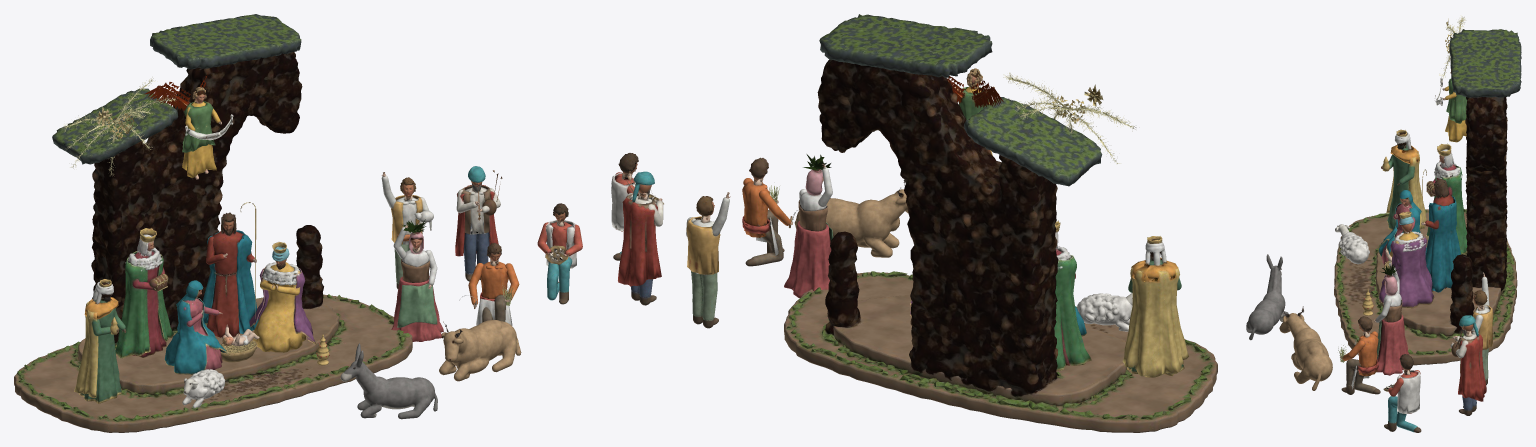
Rendered from pesebre.glb.
3 views of the same model, side by side, from view 1: azimuth 30°, elevation 25°; view 2: azimuth 150°, elevation 25°; view 3: azimuth 270°, elevation 25° (orthographic). The views are drawn at different scales.
Parts seen in each view (by area): view 1: LOW_Portal_conj, LOW_San_Jose.001, LOW_Rey_Melchor.001, LOW_Rey_Gaspar.001, LOW_Rey_Baltasar.001, LOW_Pastora.001, LOW_Buey.001, LOW_Virgen_Maria.001, LOW_Pastor_Gaita.001, LOW_Angel.001, LOW_Mula.001, LOW_Pastor_Huevos.001 (+5 smaller); view 2: LOW_Portal_conj, LOW_Rey_Baltasar.001, LOW_Pastora.001, LOW_Pastor_Gaita.001, LOW_Pastor_Cordero.001, LOW_Buey.001, LOW_Pastor_Hoz.001, LOW_Rey_Melchor.001, LOW_Ramo.001, LOW_Oveja.001, LOW_Angel.001, LOW_Pastor_Huevos.001; view 3: LOW_Portal_conj, LOW_San_Jose.001, LOW_Rey_Gaspar.001, LOW_Pastora.001, LOW_Pastor_Gaita.001, LOW_Buey.001, LOW_Rey_Baltasar.001, LOW_Pastor_Hoz.001, LOW_Pastor_Huevos.001, LOW_Mula.001, LOW_Rey_Melchor.001, LOW_Pastor_Cordero.001 (+4 smaller).
Part boxes in pixels (x1,y1,x2,y2): LOW_Portal_conj: (14, 14, 412, 432); LOW_San_Jose.001: (202, 202, 258, 339); LOW_Rey_Melchor.001: (115, 227, 174, 358); LOW_Rey_Gaspar.001: (249, 242, 315, 352); LOW_Rey_Baltasar.001: (74, 279, 126, 403); LOW_Pastora.001: (391, 219, 443, 341); LOW_Buey.001: (439, 319, 521, 381); LOW_Virgen_Maria.001: (164, 280, 227, 374); LOW_Pastor_Gaita.001: (455, 166, 502, 281); LOW_Angel.001: (144, 74, 233, 179); LOW_Mula.001: (340, 343, 437, 419); LOW_Pastor_Huevos.001: (537, 203, 582, 304); LOW_Portal_conj: (784, 14, 1217, 432); LOW_Rey_Baltasar.001: (1122, 236, 1188, 377); LOW_Pastora.001: (784, 154, 833, 298); LOW_Pastor_Gaita.001: (618, 171, 663, 305); LOW_Pastor_Cordero.001: (686, 192, 730, 328); LOW_Buey.001: (794, 180, 908, 257); LOW_Pastor_Hoz.001: (742, 157, 798, 266); LOW_Rey_Melchor.001: (1054, 220, 1091, 370); LOW_Ramo.001: (1003, 72, 1136, 163); LOW_Oveja.001: (1077, 293, 1132, 331); LOW_Angel.001: (947, 68, 1010, 155); LOW_Pastor_Huevos.001: (611, 153, 663, 260); LOW_Portal_conj: (1334, 29, 1521, 365); LOW_San_Jose.001: (1421, 169, 1460, 292); LOW_Rey_Gaspar.001: (1378, 211, 1434, 308); LOW_Pastora.001: (1374, 264, 1409, 375); LOW_Pastor_Gaita.001: (1450, 315, 1486, 415); LOW_Buey.001: (1279, 306, 1332, 390); LOW_Rey_Baltasar.001: (1381, 129, 1426, 230); LOW_Pastor_Hoz.001: (1338, 316, 1380, 394); LOW_Pastor_Huevos.001: (1383, 354, 1421, 432); LOW_Mula.001: (1246, 254, 1288, 340); LOW_Rey_Melchor.001: (1426, 143, 1467, 254); LOW_Pastor_Cordero.001: (1471, 272, 1493, 384).
Bounding box in the file's own units: 0.6408 × 0.3482 × 0.3366.
18 materials, 18 textured.
